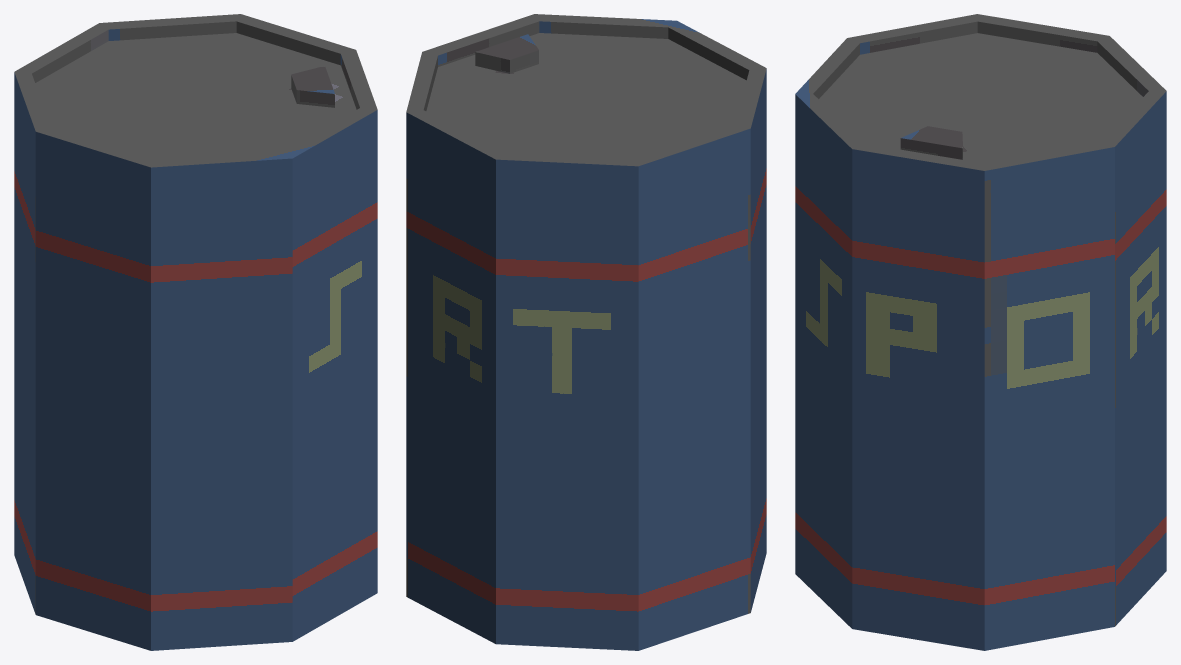
File: canned.glb
3 views of the same model, side by side, from view 1: azimuth 30°, elevation 25°; view 2: azimuth 150°, elevation 25°; view 3: azimuth 270°, elevation 25° (orthographic).
Visible parts, largest first — view 1: Cylinder; view 2: Cylinder; view 3: Cylinder.
Part boxes in pixels (x1=…): Cylinder: x1=14, y1=14, x2=377, y2=650; Cylinder: x1=406, y1=14, x2=766, y2=650; Cylinder: x1=795, y1=14, x2=1166, y2=650.
Bounding box in the file's own units: 3.24 × 4.63 × 3.24.
Materials: 1 (1 with a texture image).
